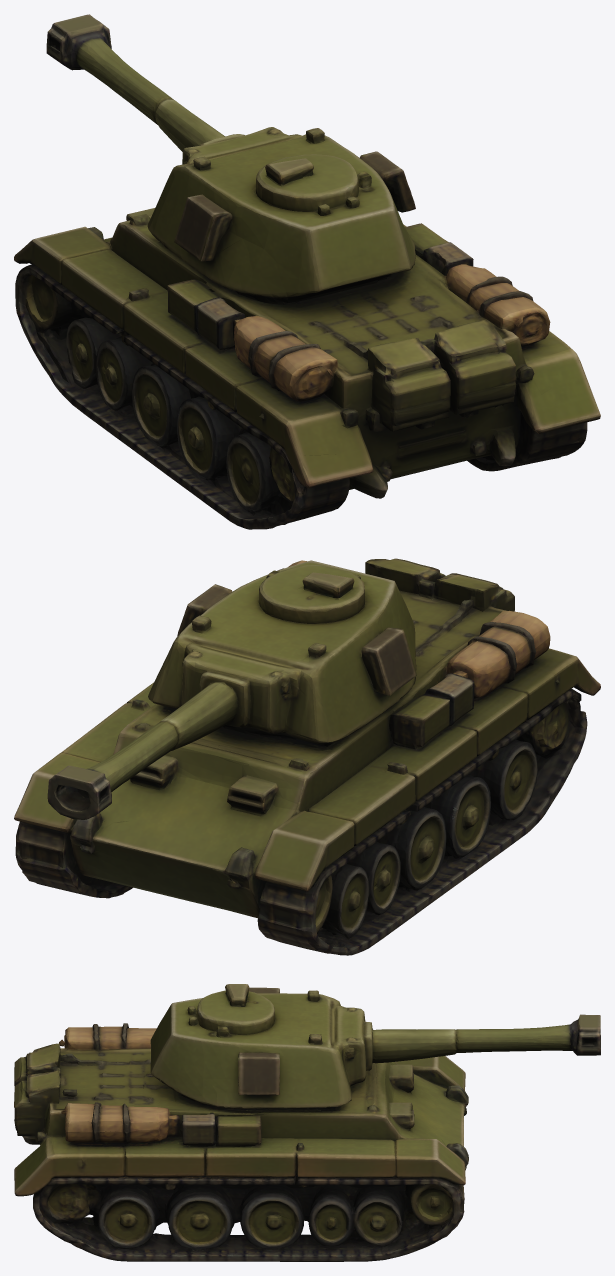
Rendered from reassembled.glb.
3 renders of one model, top to bottom at view 1: azimuth 30°, elevation 25°; view 2: azimuth 150°, elevation 25°; view 3: azimuth 270°, elevation 25°, orthographic. The views are drawn at different scales.
Visible parts, largest first — view 1: world; view 2: world; view 3: world.
Part boxes in pixels (bbox=[...]): world: bbox=[14, 14, 600, 529]; world: bbox=[14, 558, 600, 955]; world: bbox=[14, 984, 600, 1261].
Bounding box in the file's own units: 0.4508 × 0.3971 × 0.9972.
1 material, 1 textured.
